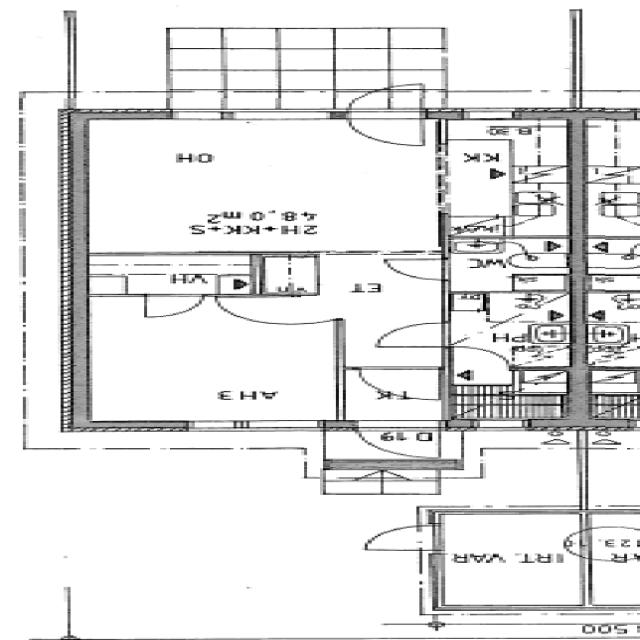door: (335, 87, 432, 148), (212, 293, 328, 328), (344, 365, 446, 403), (351, 421, 441, 460), (353, 523, 449, 554), (370, 320, 456, 350), (372, 255, 456, 283), (137, 293, 209, 321), (446, 346, 514, 370)
window: (160, 105, 333, 124), (178, 417, 328, 436), (453, 105, 564, 120), (468, 417, 533, 431)
zone: (76, 115, 436, 254), (81, 295, 336, 429), (434, 114, 578, 236), (436, 511, 592, 611), (446, 290, 574, 366), (574, 115, 640, 237), (75, 254, 268, 295), (452, 366, 581, 423), (444, 240, 578, 292), (578, 286, 640, 364), (567, 522, 640, 565)
